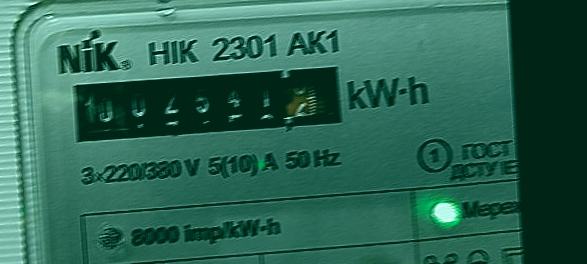0: (126, 86, 147, 120), (95, 94, 114, 124)
1: (254, 76, 272, 110)
2: (157, 83, 180, 118)
4: (223, 79, 242, 111)
5: (191, 84, 209, 116)
6: (290, 98, 307, 120)
screen: (57, 51, 361, 158)
